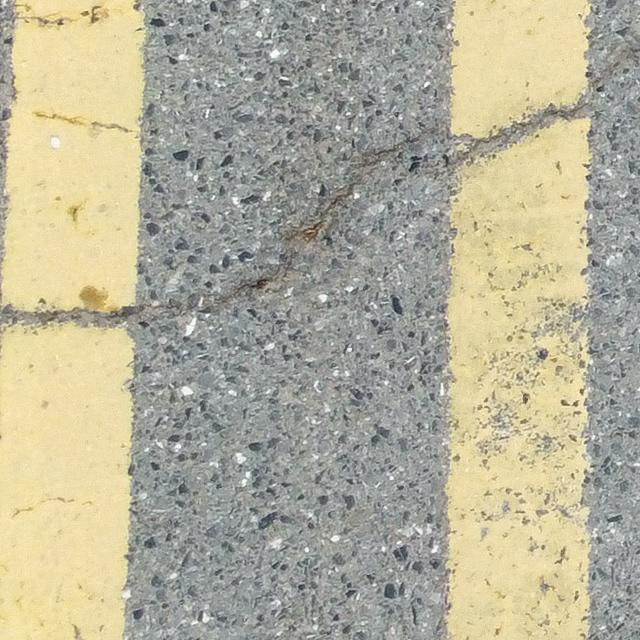TransverseCrack: (1, 50, 639, 328)
